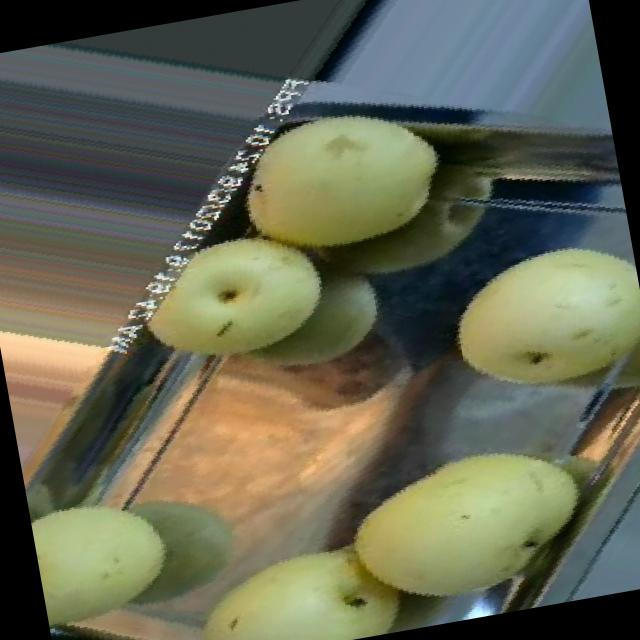Fruit: (307, 398, 623, 640), (198, 94, 480, 304), (107, 189, 357, 397), (418, 211, 640, 439), (0, 281, 155, 523), (23, 454, 203, 640)
